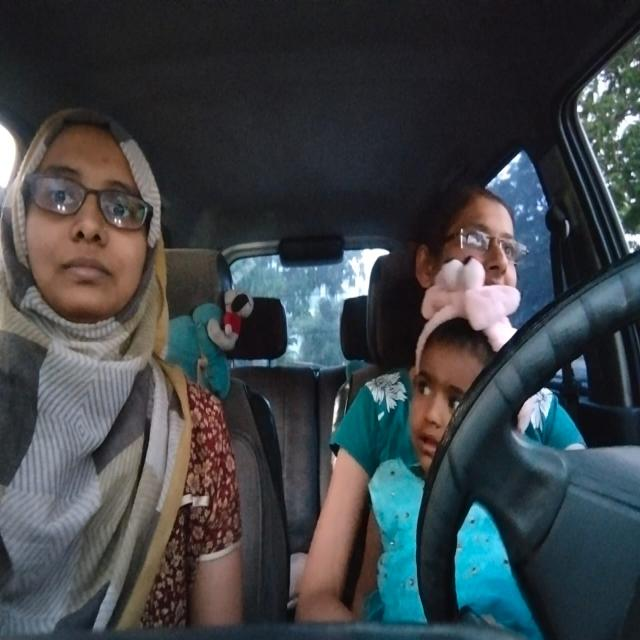child: (408, 317, 498, 480)
person: (7, 109, 166, 334), (405, 187, 537, 300)
